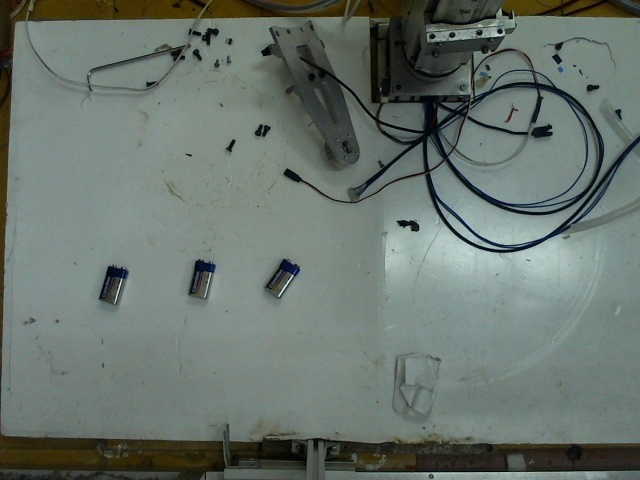battery: (259, 251, 300, 303), (97, 258, 131, 306), (188, 253, 218, 305)
